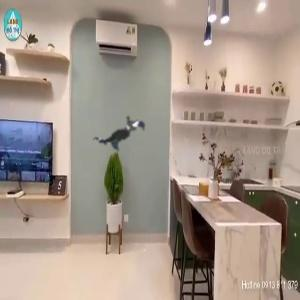drone: (31, 34, 232, 235)
